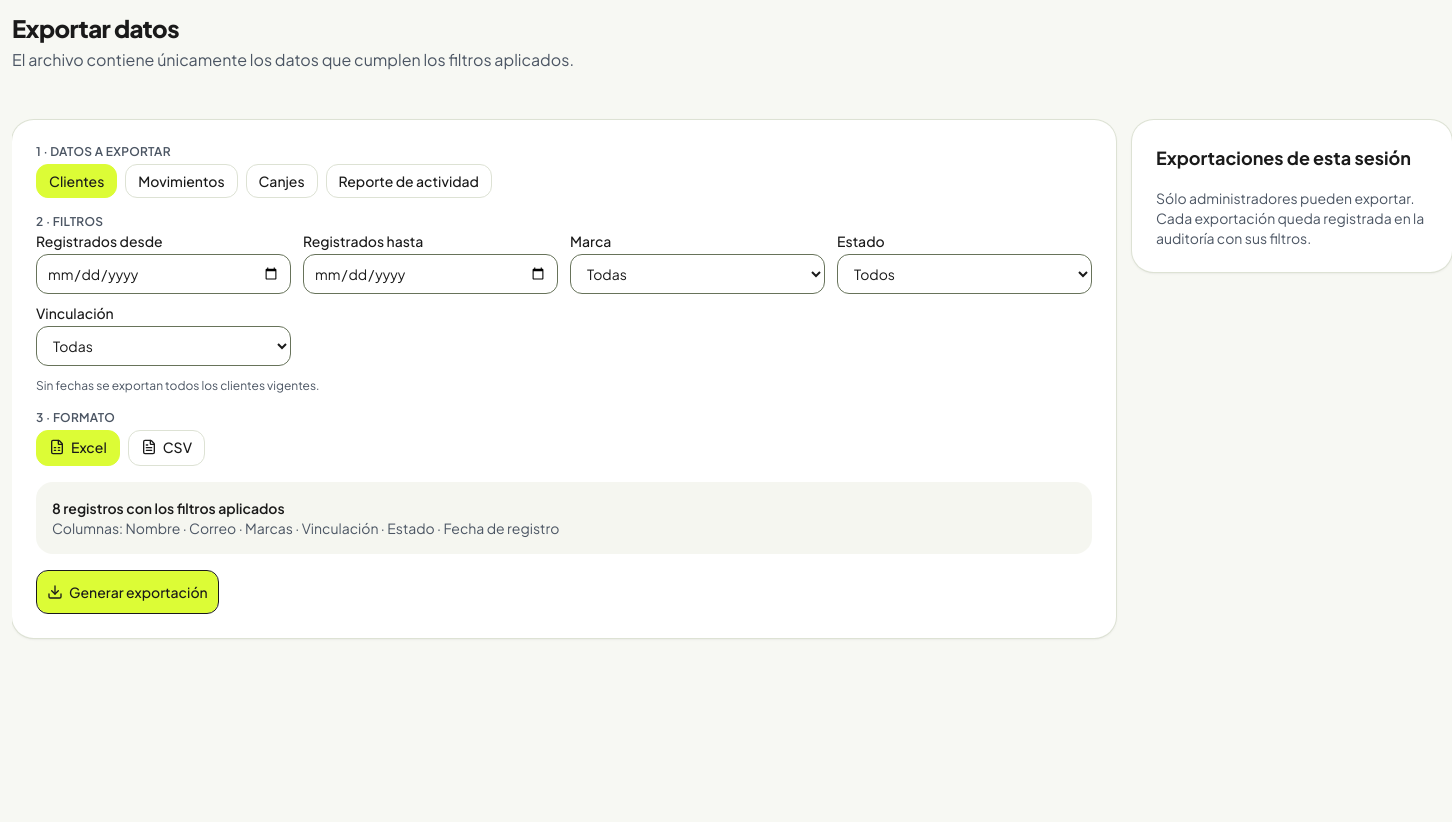
Test: F5-FE-03 · Exportar datos (UI-11, A12) › vista previa con filtros, rechazo por volumen y descarga en Excel
Expected: the text with test id "filas-exportacion" reads "8 registros con los filtros aplicados", left=52, top=499, right=285, bottom=517
Expected: the text "Columnas: Nombre · Correo" is shown, left=52, top=519, right=559, bottom=537
Step 1. Click the button "Generar exportación" → (127, 592), box left=36, top=570, right=219, bottom=614
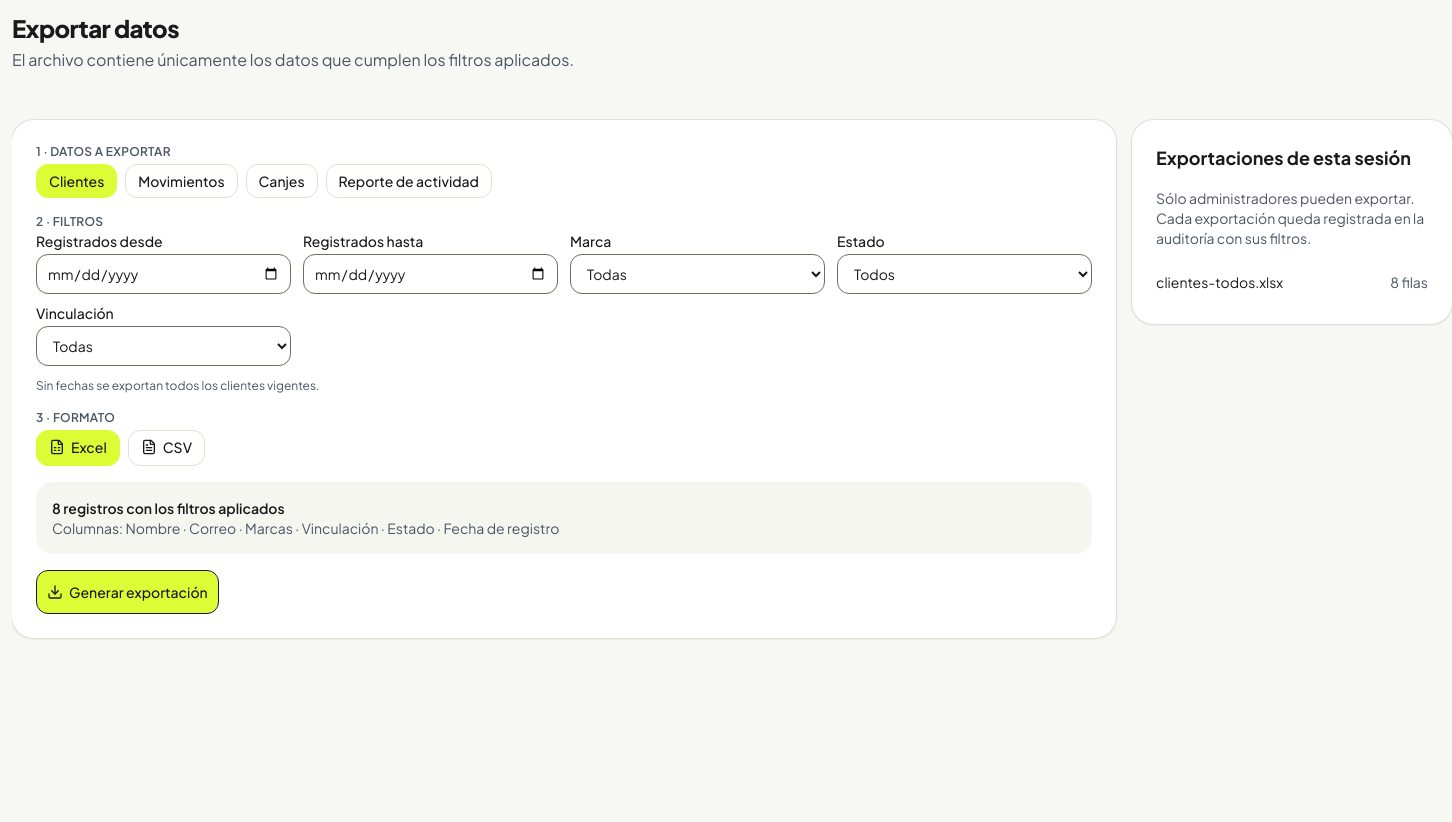
Result: the text "clientes-todos.xlsx" is shown at left=1156, top=272, right=1283, bottom=292
Step 2. Click the button "Movimientos" → (181, 181), box left=125, top=164, right=238, bottom=198
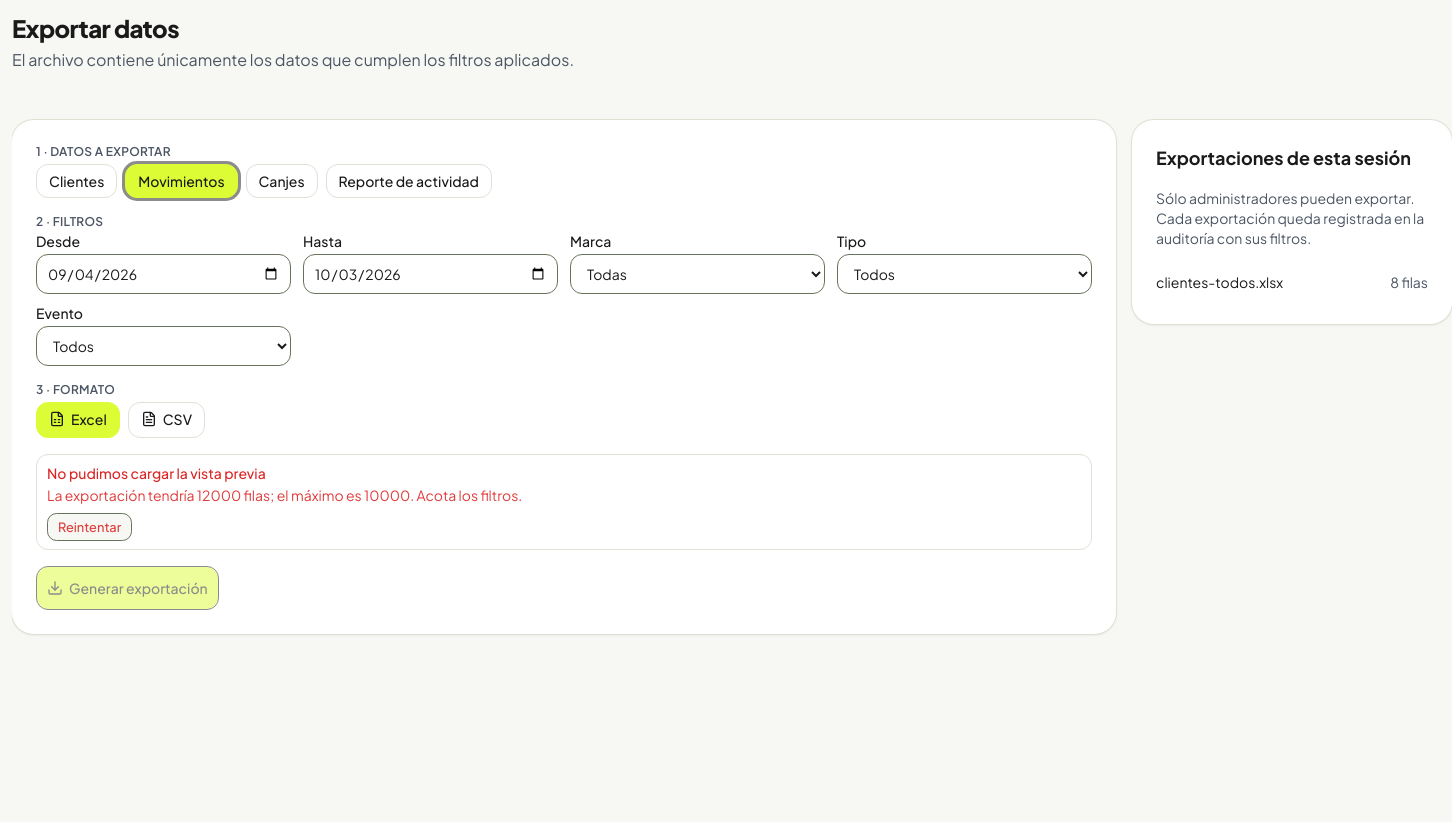
Result: the message shows "Acota los filtros" at left=47, top=486, right=522, bottom=504
Result: the date field labelled "Desde" holds "2026-09-04" at left=36, top=254, right=291, bottom=294
Result: the button "Generar exportación" is disabled at left=36, top=566, right=219, bottom=610
